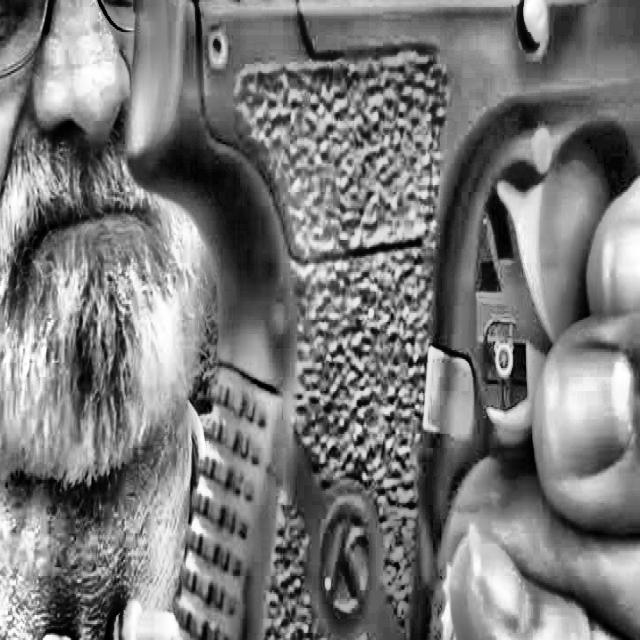Kahr: (116, 0, 640, 640)
